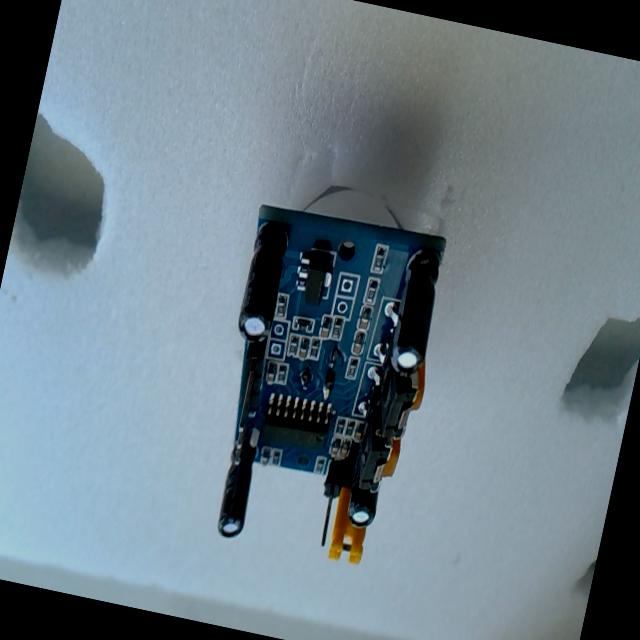Electrolytic capacitor: (382, 237, 450, 381), (232, 212, 297, 341), (210, 442, 260, 546)
IC: (252, 384, 334, 454)
